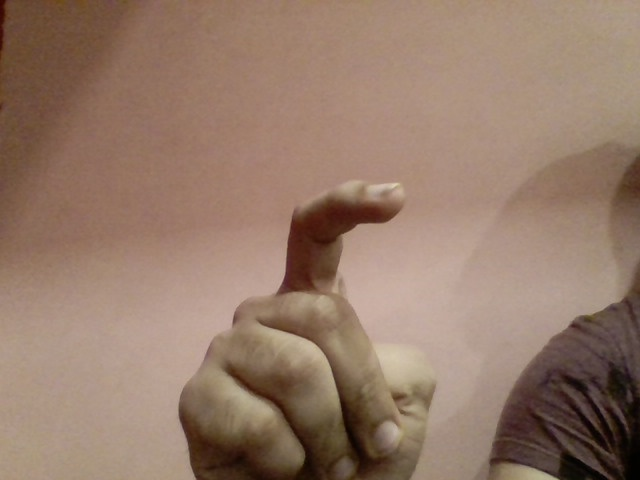x: (157, 171, 446, 480)
